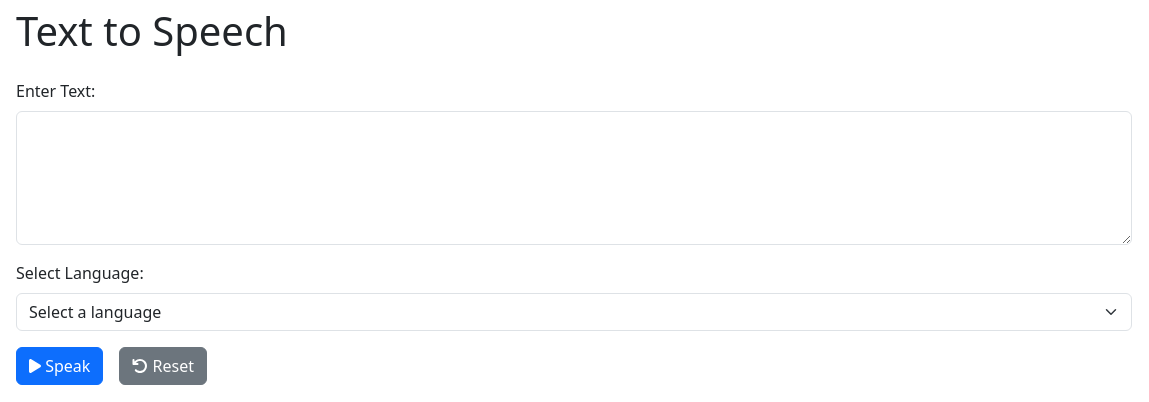
TextToSpeech Component › reset button resets state
The width and height of the screenshot is (1149, 402).
Type "Hello, World!" into the text box labelled "Enter Text:".
click(574, 178); type("Hello, World!")  # box [16,111,1132,245]
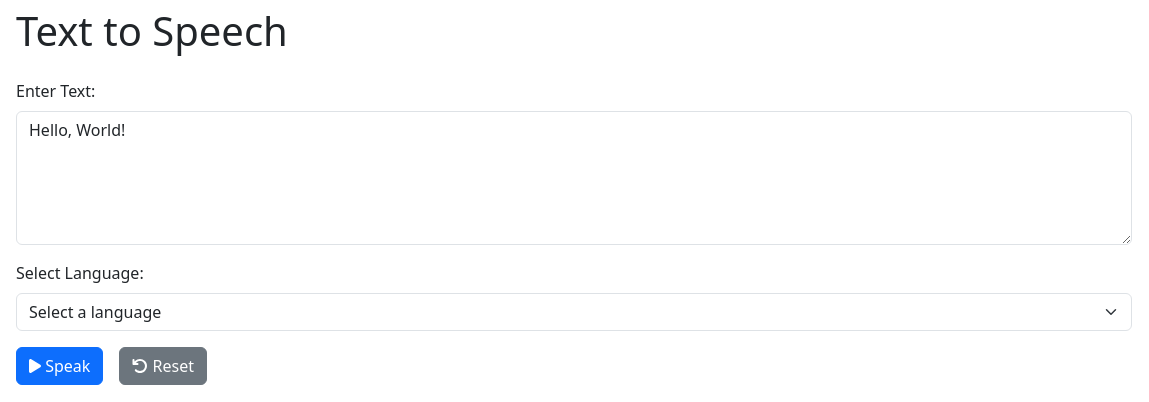
Click the button "Reset".
click(163, 366)  # box [119,347,207,385]
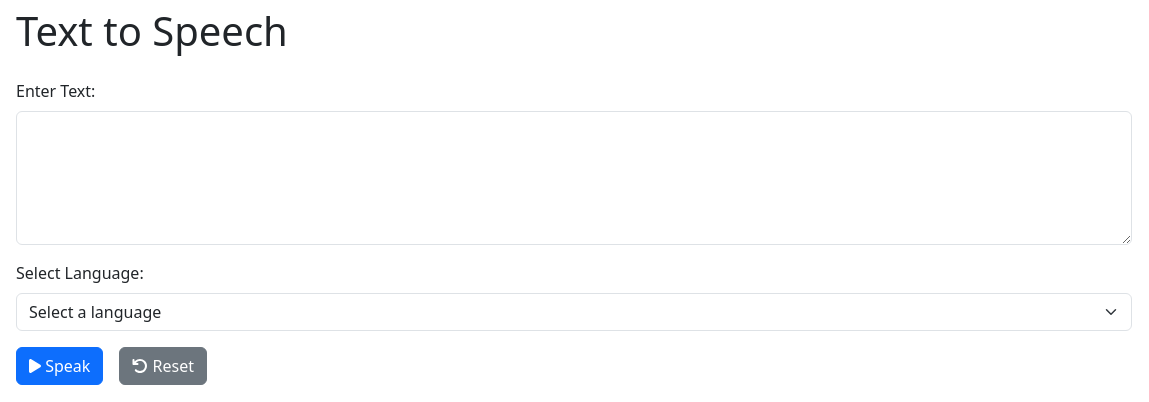
Expected: the text box labelled "Enter Text:" is empty, [16,111,1132,245]
